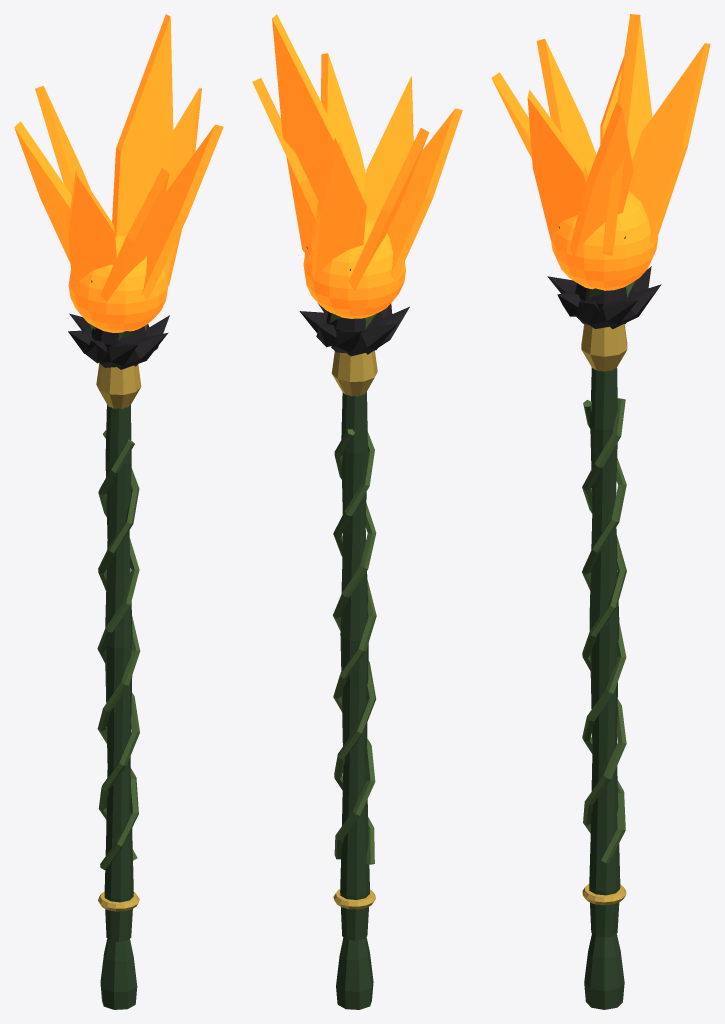
The model's file is staff_emberspire.glb.
3 renders of one model, left to right at view 1: azimuth 30°, elevation 25°; view 2: azimuth 150°, elevation 25°; view 3: azimuth 270°, elevation 25°, orthographic. The views are drawn at different scales.
Visible parts, largest first — view 1: Em_Shaft, Em_Flame0, Em_Core, Em_Flame5, Em_Flame3, Em_Vine1, Em_Flame4, Em_Vine0, Em_Flame2, Em_Butt, Em_Flame6, Em_Flame1 (+4 smaller); view 2: Em_Shaft, Em_Flame0, Em_Core, Em_Flame1, Em_Flame3, Em_Flame4, Em_Vine0, Em_Vine1, Em_Butt, Em_Flame5, Em_Flame2, Em_Neck (+4 smaller); view 3: Em_Shaft, Em_Flame1, Em_Core, Em_Flame5, Em_Flame6, Em_Vine1, Em_Vine0, Em_Flame3, Em_Butt, Em_Flame2, Em_Flame0, Em_Neck (+5 smaller).
Part boxes in pixels (x1,y1,x2,y2): Em_Shaft: [104, 405, 133, 941]; Em_Flame0: [112, 14, 173, 236]; Em_Core: [68, 235, 168, 332]; Em_Flame5: [141, 124, 223, 301]; Em_Flame3: [67, 168, 116, 293]; Em_Vine1: [97, 430, 140, 869]; Em_Flame4: [100, 168, 169, 302]; Em_Vine0: [97, 439, 139, 860]; Em_Flame2: [14, 121, 71, 263]; Em_Butt: [100, 938, 137, 1009]; Em_Flame6: [164, 88, 201, 285]; Em_Flame1: [35, 86, 90, 195]; Em_Shaft: [340, 392, 369, 940]; Em_Flame0: [272, 14, 343, 252]; Em_Core: [303, 217, 405, 318]; Em_Flame1: [311, 137, 366, 281]; Em_Flame3: [387, 108, 462, 283]; Em_Flame4: [363, 76, 413, 220]; Em_Vine0: [333, 432, 376, 859]; Em_Vine1: [333, 429, 376, 864]; Em_Butt: [336, 937, 373, 1009]; Em_Flame5: [321, 53, 365, 198]; Em_Flame2: [348, 128, 429, 290]; Em_Neck: [331, 350, 377, 396]; Em_Shaft: [589, 367, 620, 937]; Em_Flame1: [629, 43, 710, 246]; Em_Core: [551, 190, 658, 290]; Em_Flame5: [527, 89, 587, 240]; Em_Flame6: [570, 102, 633, 257]; Em_Vine1: [582, 398, 626, 833]; Em_Vine0: [582, 400, 626, 863]; Em_Flame3: [536, 38, 596, 176]; Em_Butt: [584, 933, 624, 1009]; Em_Flame2: [600, 18, 652, 160]; Em_Flame0: [602, 14, 640, 255]; Em_Neck: [581, 324, 627, 371].
Size of the model in its own units: 0.5151 by 2.62 by 0.5096.
